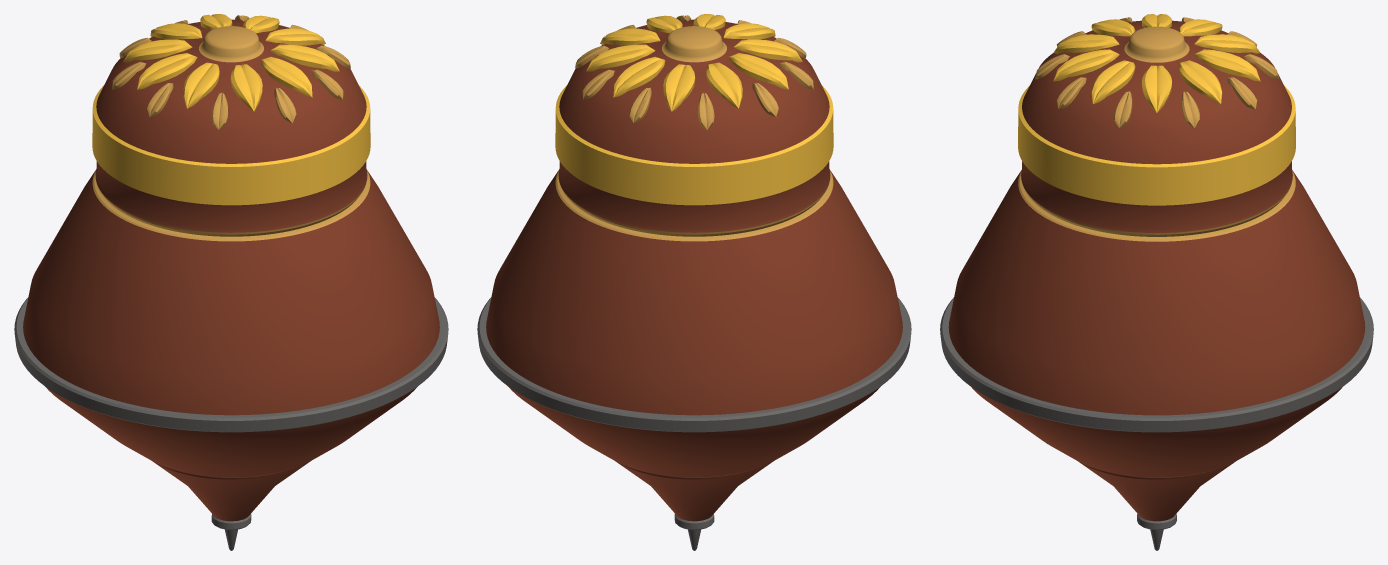
The model's file is gasing_cikros.glb.
3 renders of one model, left to right at view 1: azimuth 30°, elevation 25°; view 2: azimuth 150°, elevation 25°; view 3: azimuth 270°, elevation 25°, orthographic.
Parts seen in each view (by area): view 1: Gasing_cikros; view 2: Gasing_cikros; view 3: Gasing_cikros.
Boxes of the visible parts, bbox=[...] form: Gasing_cikros: bbox=[14, 14, 448, 550]; Gasing_cikros: bbox=[477, 14, 911, 550]; Gasing_cikros: bbox=[940, 14, 1373, 550].
Bounding box in the file's own units: 0.8 × 1.05 × 0.8.
